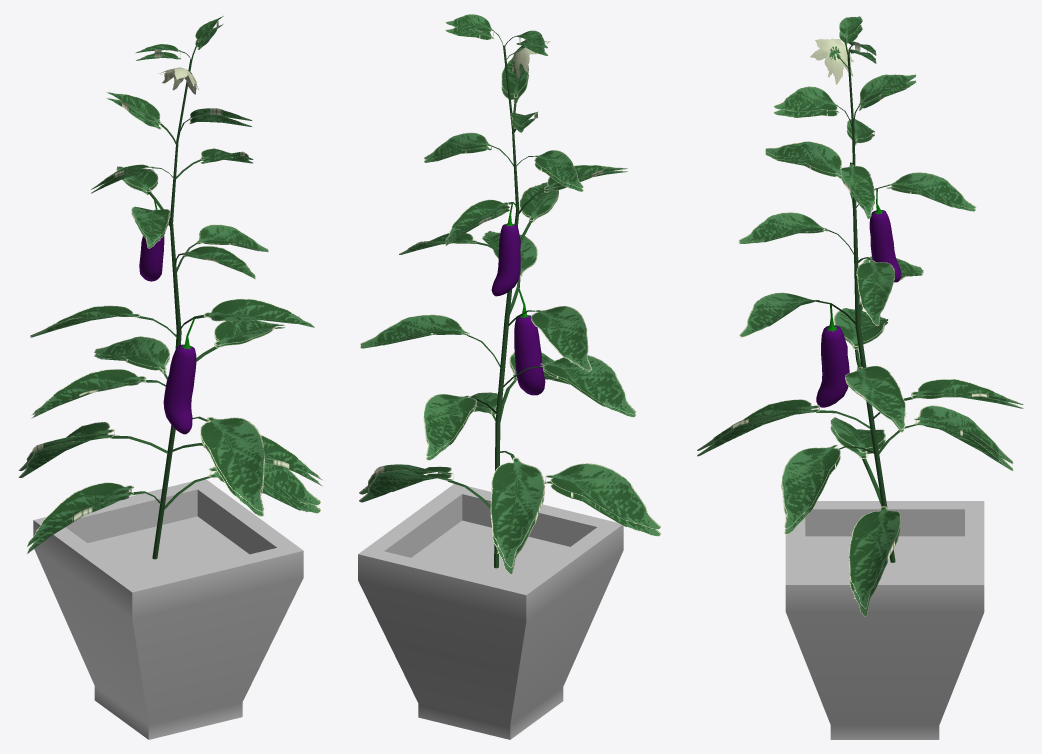
Rendered from egg planr.fbx.
3 views of the same model, side by side, from view 1: azimuth 30°, elevation 25°; view 2: azimuth 150°, elevation 25°; view 3: azimuth 270°, elevation 25° (orthographic). The views are drawn at different scales.
Parts seen in each view (by area): view 1: pot, jalapeno_plant:LOD0LOD_0polySurface52, soli, polySurface2, jalapeno_plant:LOD0LOD_0polySurface54, jalapeno_plant:polySurface1LOD0LOD_0; view 2: pot, jalapeno_plant:LOD0LOD_0polySurface52, soli, polySurface2, jalapeno_plant:LOD0LOD_0polySurface54; view 3: pot, jalapeno_plant:LOD0LOD_0polySurface52, soli, polySurface2, jalapeno_plant:LOD0LOD_0polySurface54, jalapeno_plant:polySurface1LOD0LOD_0.
Boxes of the visible parts, <box> form: pot: <box>33,479,303,739</box>; jalapeno_plant:LOD0LOD_0polySurface52: <box>18,16,322,553</box>; soli: <box>88,516,249,581</box>; polySurface2: <box>139,200,196,434</box>; jalapeno_plant:LOD0LOD_0polySurface54: <box>109,41,218,559</box>; jalapeno_plant:polySurface1LOD0LOD_0: <box>158,67,198,94</box>; pot: <box>358,484,623,739</box>; jalapeno_plant:LOD0LOD_0polySurface52: <box>359,14,660,574</box>; soli: <box>411,520,569,584</box>; polySurface2: <box>491,204,545,395</box>; jalapeno_plant:LOD0LOD_0polySurface54: <box>447,31,549,568</box>; pot: <box>785,501,984,739</box>; jalapeno_plant:LOD0LOD_0polySurface52: <box>697,16,1023,616</box>; soli: <box>805,536,964,576</box>; polySurface2: <box>816,189,901,407</box>; jalapeno_plant:LOD0LOD_0polySurface54: <box>815,36,918,562</box>; jalapeno_plant:polySurface1LOD0LOD_0: <box>810,38,853,84</box>.
Size of the model in its own units: 35.25 by 75.38 by 33.05.
